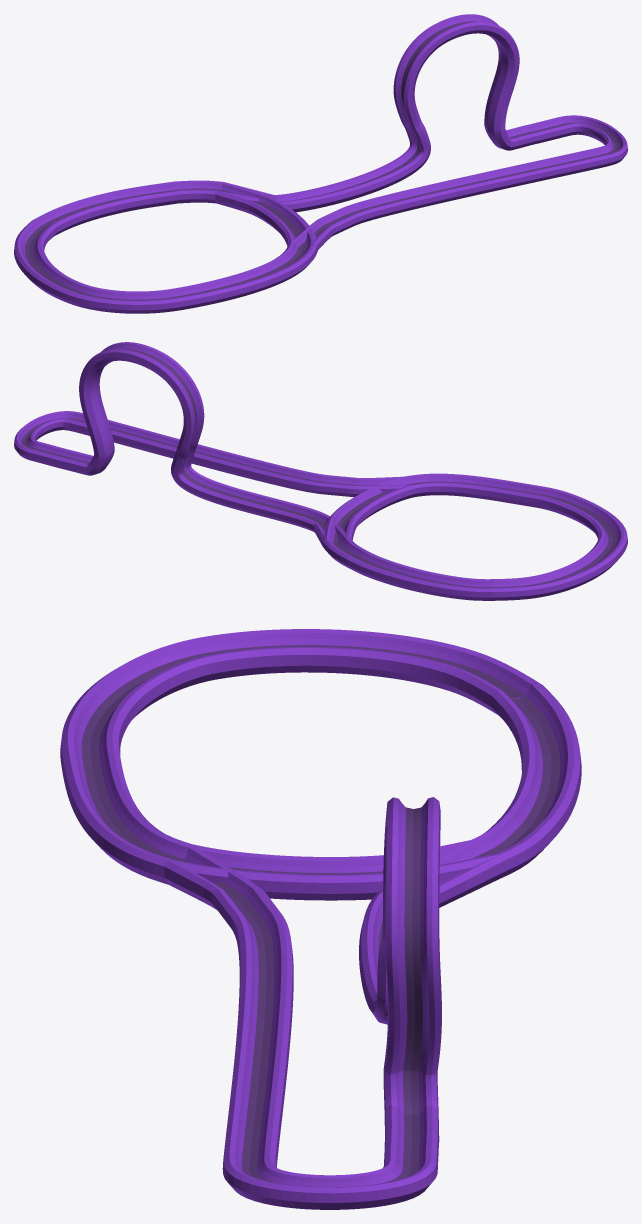
Rendered from upgrade_2_.fbx.
The picture shows the model from 3 angles, top to bottom: view 1: azimuth 30°, elevation 25°; view 2: azimuth 150°, elevation 25°; view 3: azimuth 270°, elevation 25°; orthographic projection. The views are drawn at different scales.
Parts seen in each view (by area): view 1: upgrade2, mainupgradfe2, part2.001, degrade2; view 2: upgrade2, mainupgradfe2, part2.001, degrade2; view 3: upgrade2, mainupgradfe2, part2.001, degrade2.
Boxes of the visible parts, x1,y1,x2,y2 form: upgrade2: [217, 14, 627, 249]; mainupgradfe2: [14, 180, 317, 313]; part2.001: [35, 181, 180, 236]; degrade2: [215, 182, 315, 247]; upgrade2: [14, 342, 413, 545]; mainupgradfe2: [322, 473, 627, 600]; part2.001: [347, 550, 494, 600]; degrade2: [324, 476, 415, 543]; upgrade2: [164, 797, 505, 1209]; mainupgradfe2: [60, 629, 557, 884]; part2.001: [490, 682, 581, 834]; degrade2: [168, 840, 499, 900].
Bounding box in the file's own units: 2177 × 512 × 850.
